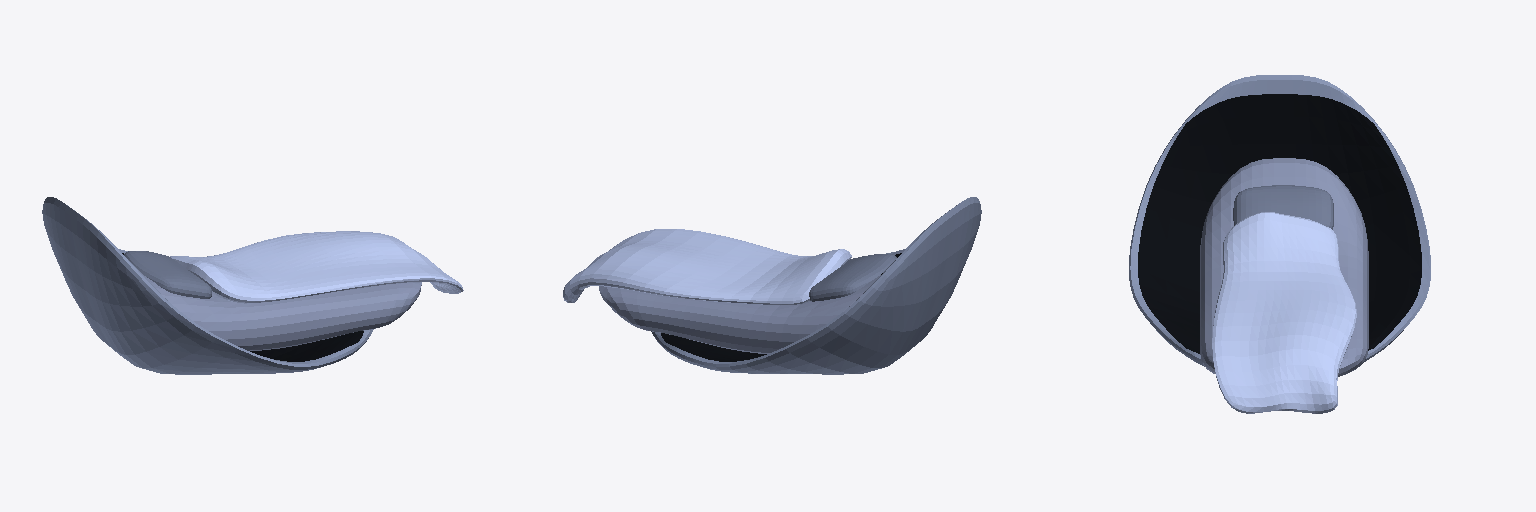
The model's file is fbed.obj.
3 views of the same model, side by side, from view 1: azimuth 30°, elevation 25°; view 2: azimuth 150°, elevation 25°; view 3: azimuth 270°, elevation 25° (orthographic).
Visible parts, largest first — view 1: baza, baza yatak yorgan, baza yatak, baza yatak yastik; view 2: baza, baza yatak yorgan, baza yatak, baza yatak yastik; view 3: baza, baza yatak yorgan, baza yatak, baza yatak yastik.
Boxes of the visible parts, x1,y1,x2,y2 form: baza: [42, 197, 373, 374]; baza yatak yorgan: [170, 231, 463, 303]; baza yatak: [141, 255, 421, 350]; baza yatak yastik: [124, 251, 211, 298]; baza: [651, 197, 981, 374]; baza yatak yorgan: [563, 229, 851, 304]; baza yatak: [599, 275, 880, 353]; baza yatak yastik: [809, 254, 896, 301]; baza: [1129, 75, 1430, 366]; baza yatak yorgan: [1212, 212, 1356, 413]; baza yatak: [1200, 158, 1368, 376]; baza yatak yastik: [1233, 185, 1333, 229].
Size of the model in its own units: 3.86 by 1.82 by 2.73.